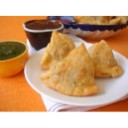samosa: (40, 43, 98, 94), (89, 40, 122, 77), (42, 31, 76, 66)
